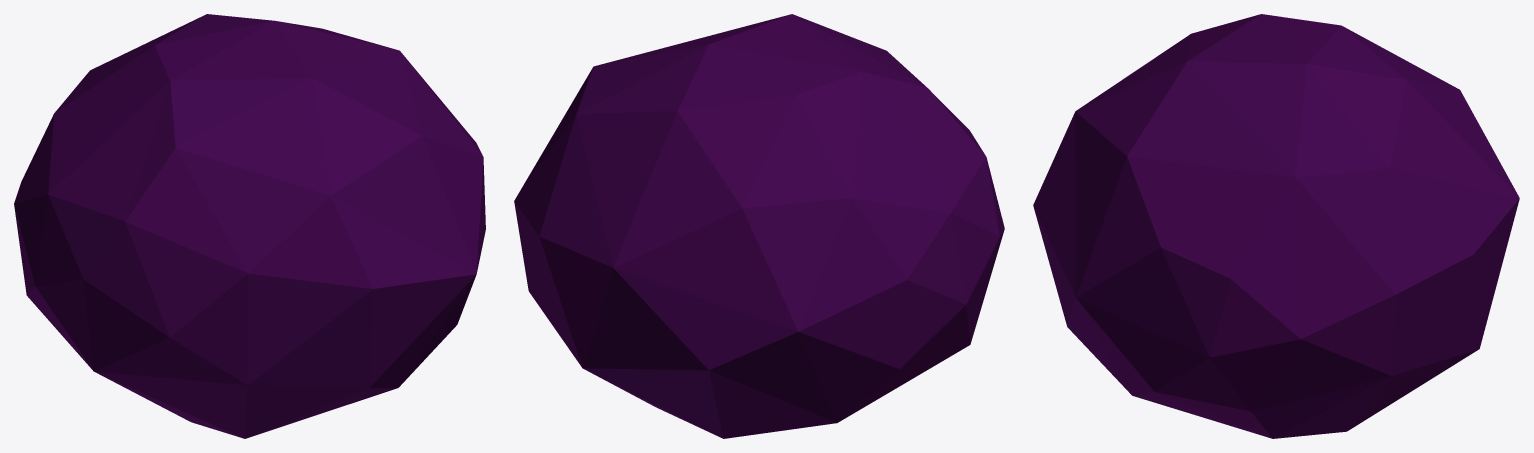
Rendered from Beet.fbx.
3 renders of one model, left to right at view 1: azimuth 30°, elevation 25°; view 2: azimuth 150°, elevation 25°; view 3: azimuth 270°, elevation 25°, orthographic.
Parts seen in each view (by area): view 1: Sphere; view 2: Sphere; view 3: Sphere.
Boxes of the visible parts, x1,y1,x2,y2 form: Sphere: [14, 14, 485, 438]; Sphere: [514, 14, 1004, 438]; Sphere: [1033, 14, 1519, 438].
Bounding box in the file's own units: 310 × 251 × 309.
